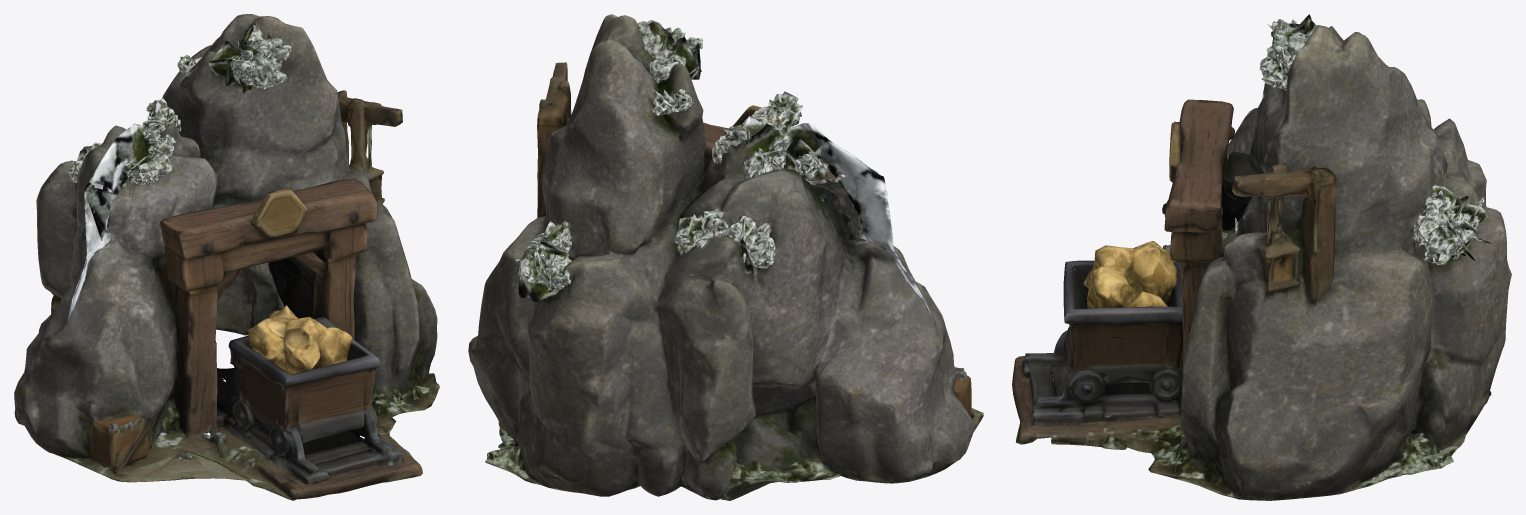
File: gold_mine.glb
3 views of the same model, side by side, from view 1: azimuth 30°, elevation 25°; view 2: azimuth 150°, elevation 25°; view 3: azimuth 270°, elevation 25° (orthographic). The views are drawn at different scales.
Visible parts, largest first — view 1: gold_mine_s7_fit; view 2: gold_mine_s7_fit; view 3: gold_mine_s7_fit.
Part boxes in pixels (box(x1,y1,x2,y2)): gold_mine_s7_fit: box(14, 14, 439, 500); gold_mine_s7_fit: box(468, 14, 983, 500); gold_mine_s7_fit: box(1012, 14, 1511, 500).
Bounding box in the file's own units: 4.08 × 3.65 × 4.02.
Materials: 1 (1 with a texture image).
